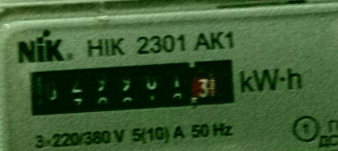0: (143, 67, 159, 93), (43, 80, 60, 102)
1: (168, 67, 183, 91)
2: (68, 76, 85, 96)
3: (196, 76, 210, 99)
9: (119, 71, 134, 94), (94, 73, 107, 95)
screen: (16, 49, 246, 127)
